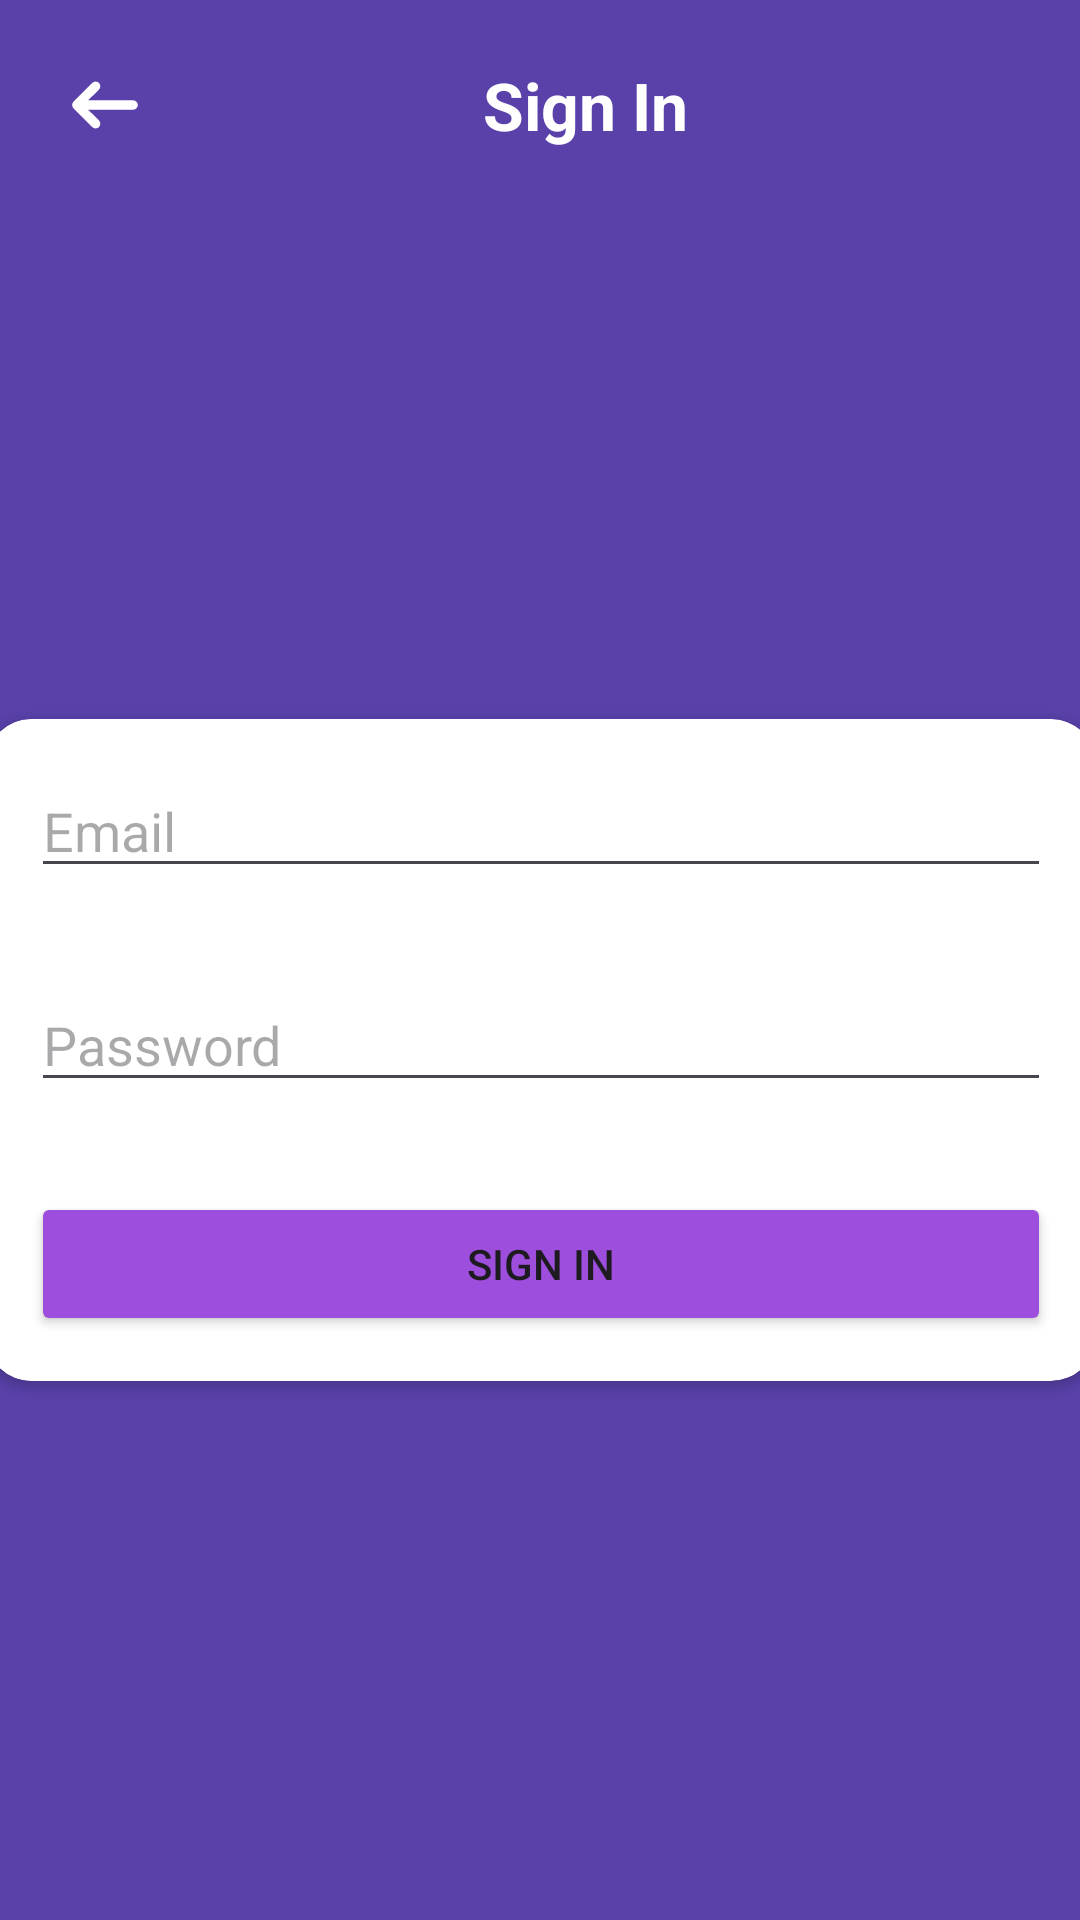

Icons on this 1080px×1920px Android screen, each with its box as [x1=x1, y1=y1, x2=x2, y2=y2]:
Back Button: [x1=72, y1=81, x2=138, y2=129]
